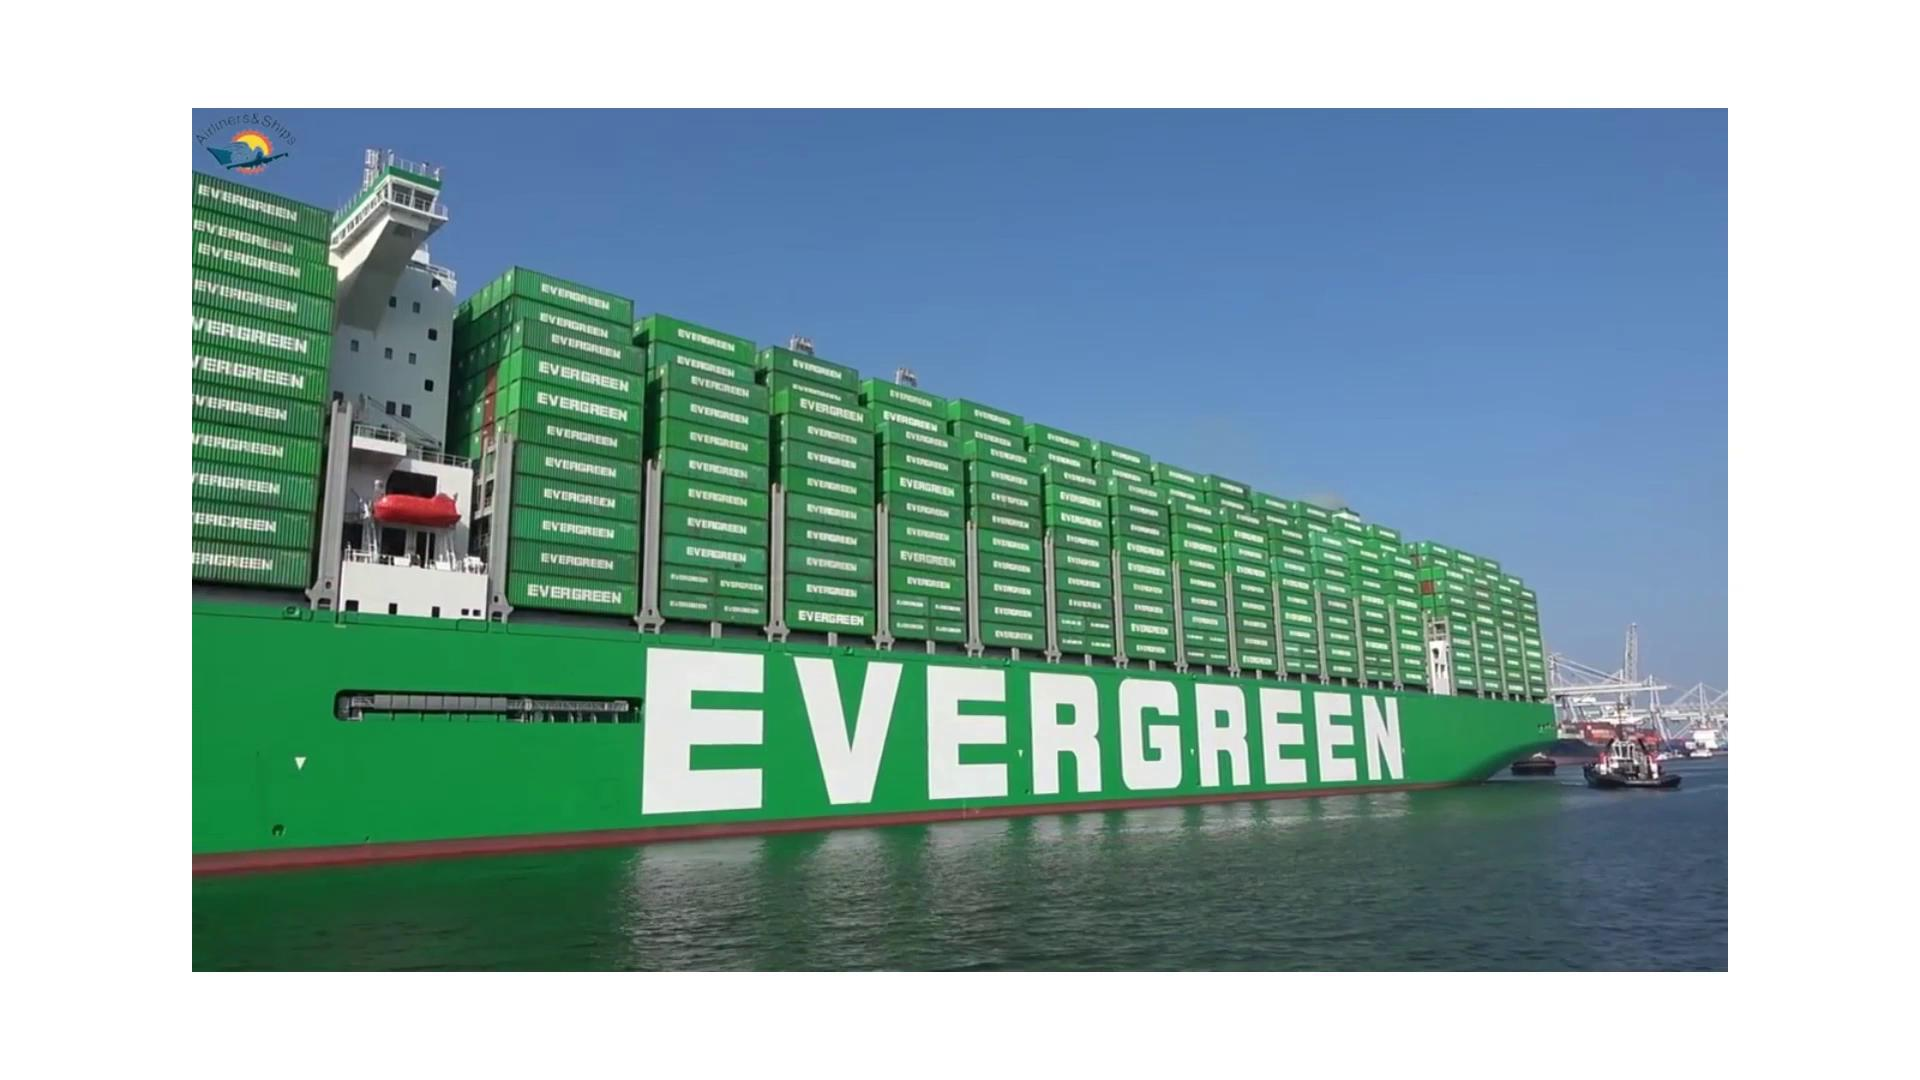OCR: (580, 625, 1461, 845)
